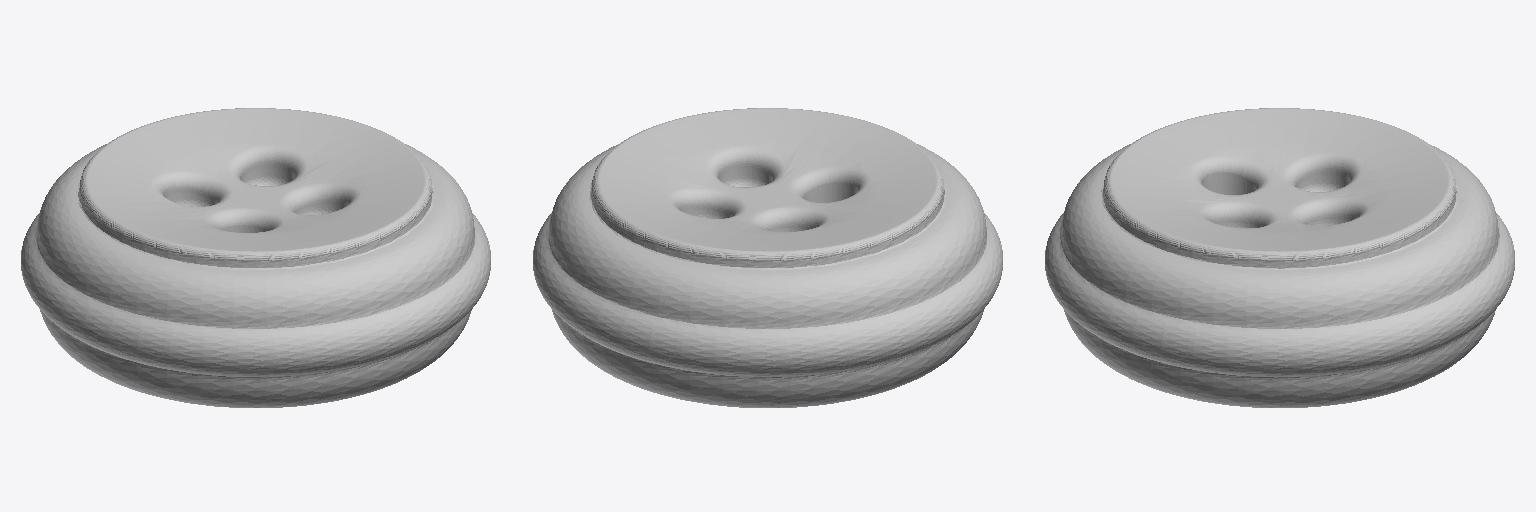
The model's file is KAF.obj.
The picture shows the model from 3 angles: view 1: azimuth 30°, elevation 25°; view 2: azimuth 150°, elevation 25°; view 3: azimuth 270°, elevation 25°; orthographic projection.
Visible parts, largest first — view 1: KAF; view 2: KAF; view 3: KAF.
Part boxes in pixels (x1,y1,x2,y2): KAF: (21, 108, 490, 407); KAF: (533, 108, 1002, 407); KAF: (1045, 108, 1514, 407).
Size of the model in its own units: 48.63 by 17.32 by 48.66.